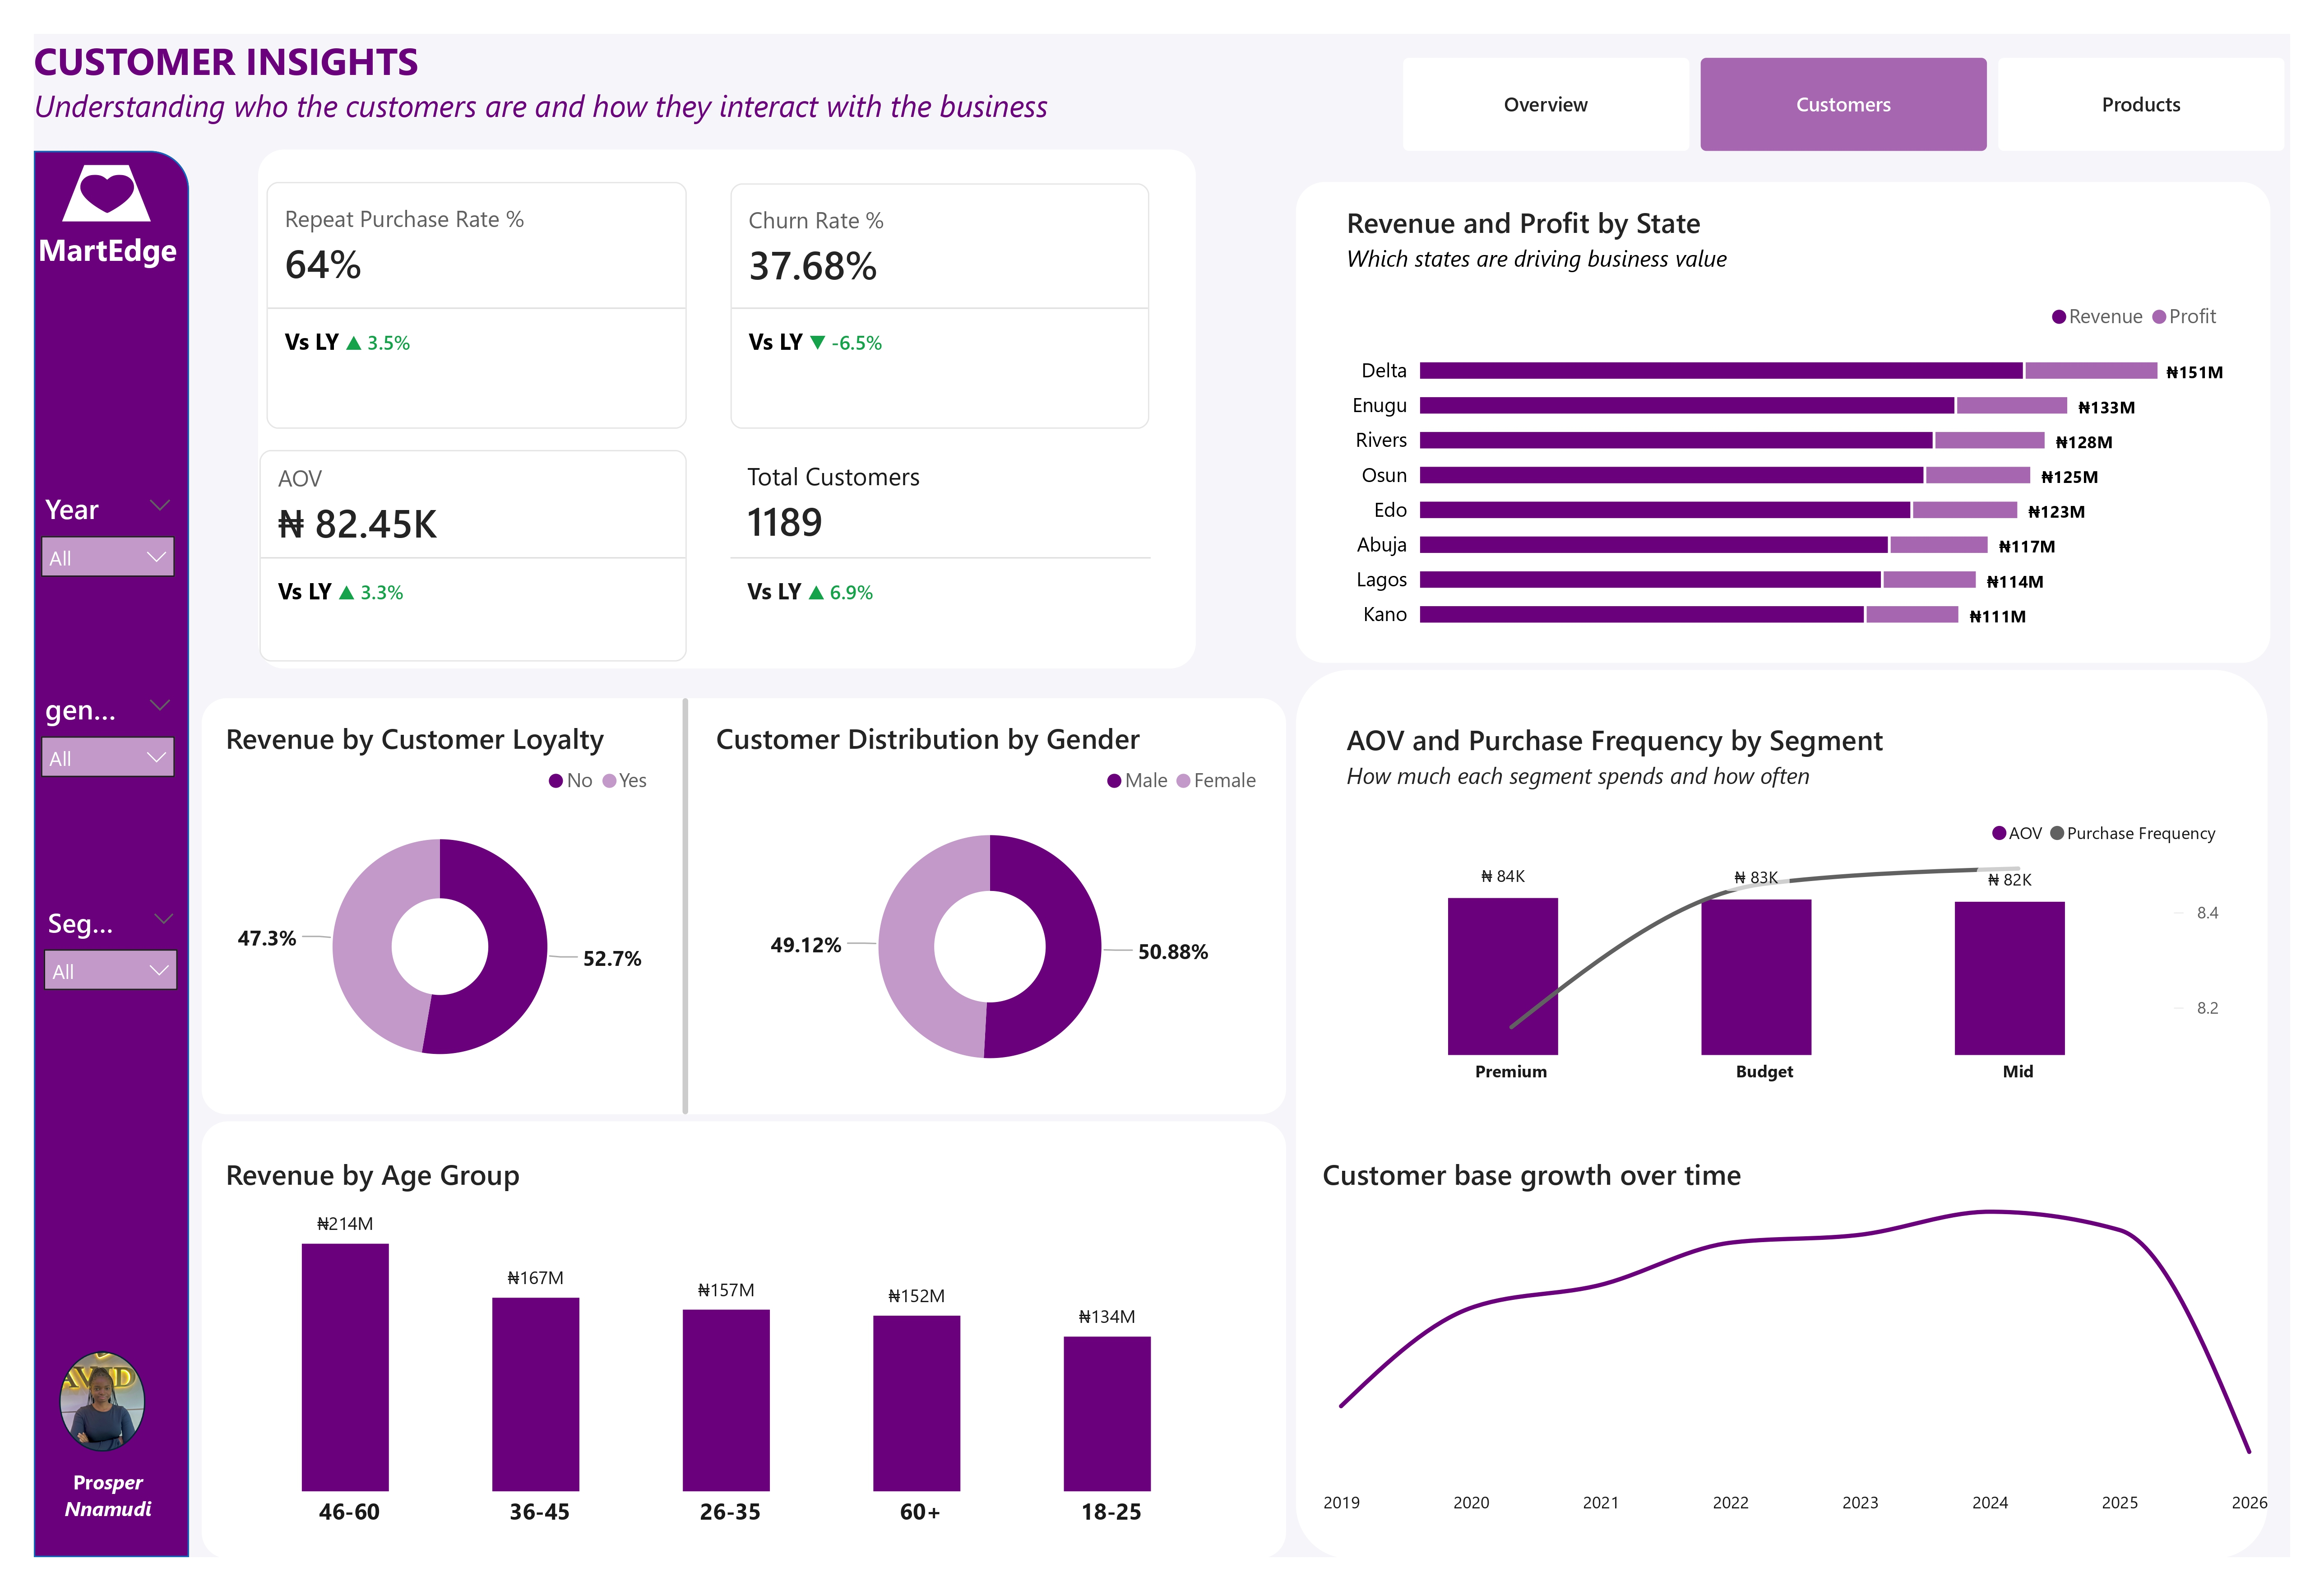

This screenshot's page, from the dashboard's own definition file:
{"tool":"powerbi","page":{"name":"Customers","canvas":[1600,1080],"ordinal":1},"visuals":[{"type":"shape","box":[0,0,1600,1080.4],"z":0},{"type":"shape","box":[20,92.5,62.5,40],"z":0,"group":"g1"},{"type":"shape","box":[0,82.9,109.8,997.6],"z":1000},{"type":"shape","box":[33.1,99.8,37.8,26.7],"z":1000,"group":"g1"},{"type":"shape","box":[895.4,104.9,690.5,341.6],"z":2000},{"type":"shape","box":[894.7,450.9,689.5,629.9],"z":3000},{"type":"shape","box":[119.3,770.7,768.3,310.2],"z":4000},{"type":"shape","box":[118.9,471.1,768.9,294.4],"z":5000},{"type":"donutChart","title":"Revenue by Customer Loyalty","fields":{"Category":["dim_customer.loyalty_member"],"Y":["_Measure.Total Revenue"]},"box":[119.6,470.9,336.7,295.2],"z":6000},{"type":"shape","box":[456.2,470.9,12.2,295.2],"z":7000},{"type":"donutChart","title":"Customer Distribution by Gender","fields":{"Category":["dim_customer.gender"],"Y":["_Measure.Total Customers"]},"box":[468.4,470.9,419.6,295.2],"z":8000},{"type":"columnChart","title":"Revenue by Age Group","fields":{"Category":["dim_customer.Age Group"],"Y":["_Measure.Total Revenue"]},"box":[120,780,747.5,300],"z":9000},{"type":"lineClusteredColumnComboChart","title":"AOV and Purchase Frequency by Segment","fields":{"Category":["dim_customer.customer_segment"],"Y":["_Measure.AOV"],"Y2":["_Measure.Purchase Frequency"]},"box":[915,471.7,653.3,293.3],"z":10000},{"type":"lineChart","title":"Customer base growth over time","fields":{"Category":["Date.Year Hierarchy.Year","Date.Year Hierarchy.Quarter","Date.Year Hierarchy.Month Name"],"Y":["_Measure.Total Customers"]},"box":[897.5,780,702.5,290],"z":11000},{"type":"shape","box":[158.8,82.4,664.7,367.6],"z":12000},{"type":"cardVisual","fields":{"Data":["_Measure.Repeat Purchase Rate %"]},"box":[165,105,297.5,175],"z":13000},{"type":"cardVisual","fields":{"Data":["_Measure.AOV"]},"box":[160,295,302.5,150],"z":14000},{"type":"cardVisual","fields":{"Data":["_Measure.Churn Rate %"]},"box":[493.8,106.2,297.5,173.8],"z":15000},{"type":"cardVisual","fields":{"Data":["_Measure.Total Customers"]},"box":[494.1,294.1,298,152.9],"z":16000},{"type":"barChart","title":"Revenue and Profit by State","fields":{"Category":["dim_customer.state"],"Y":["_Measure.Revenue","_Measure.Profit"]},"box":[914.9,104.9,653.9,339.1],"z":17000},{"type":"pageNavigator","box":[971,17.1,627,65.9],"z":17001},{"type":"group","id":"g1","title":"Group 1","box":[20,92.5,62.5,40],"z":17002},{"type":"slicer","fields":{"Values":["Date.Year"]},"box":[0,322.1,104.9,85.4],"z":17003},{"type":"slicer","fields":{"Values":["dim_customer.gender"]},"box":[0,463.6,104.9,85.4],"z":17004},{"type":"image","box":[12.2,934.4,73.2,70.8],"z":17005},{"type":"textbox","box":[2.5,137.5,115,55],"z":17006},{"type":"slicer","fields":{"Values":["dim_customer.customer_segment"]},"box":[2.4,617.3,104.9,85.4],"z":17007},{"type":"textbox","box":[0,0,761.2,83],"z":17008},{"type":"textbox","box":[0,1017.4,104.9,63.4],"z":17009}]}

Visuals, with their boxes on the page's 1600x1080 design canvas (x1, y1, x2, y2). These are canvas units, not pixel positions in the 2324x1591 screenshot, which may show the page scaled, cropped or inside an application window:
shape: l=0, t=0, r=1600, b=1080
shape: l=20, t=92, r=82, b=132
shape: l=0, t=83, r=110, b=1080
shape: l=33, t=100, r=71, b=126
shape: l=895, t=105, r=1586, b=446
shape: l=895, t=451, r=1584, b=1081
shape: l=119, t=771, r=888, b=1081
shape: l=119, t=471, r=888, b=766
"Revenue by Customer Loyalty" donutChart: l=120, t=471, r=456, b=766
shape: l=456, t=471, r=468, b=766
"Customer Distribution by Gender" donutChart: l=468, t=471, r=888, b=766
"Revenue by Age Group" columnChart: l=120, t=780, r=868, b=1080
"AOV and Purchase Frequency by Segment" lineClusteredColumnComboChart: l=915, t=472, r=1568, b=765
"Customer base growth over time" lineChart: l=898, t=780, r=1600, b=1070
shape: l=159, t=82, r=824, b=450
cardVisual - _Measure.Repeat Purchase Rate %: l=165, t=105, r=462, b=280
cardVisual - _Measure.AOV: l=160, t=295, r=462, b=445
cardVisual - _Measure.Churn Rate %: l=494, t=106, r=791, b=280
cardVisual - _Measure.Total Customers: l=494, t=294, r=792, b=447
"Revenue and Profit by State" barChart: l=915, t=105, r=1569, b=444
pageNavigator: l=971, t=17, r=1598, b=83
"Group 1" group: l=20, t=92, r=82, b=132
slicer - Date.Year: l=0, t=322, r=105, b=408
slicer - dim_customer.gender: l=0, t=464, r=105, b=549
image: l=12, t=934, r=85, b=1005
textbox: l=2, t=138, r=118, b=192
slicer - dim_customer.customer_segment: l=2, t=617, r=107, b=703
textbox: l=0, t=0, r=761, b=83
textbox: l=0, t=1017, r=105, b=1081
